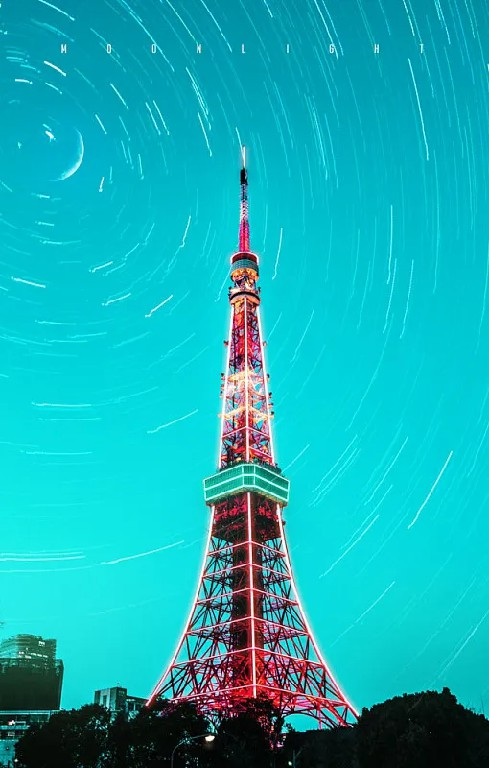Tokyo: (142, 135, 367, 721)
